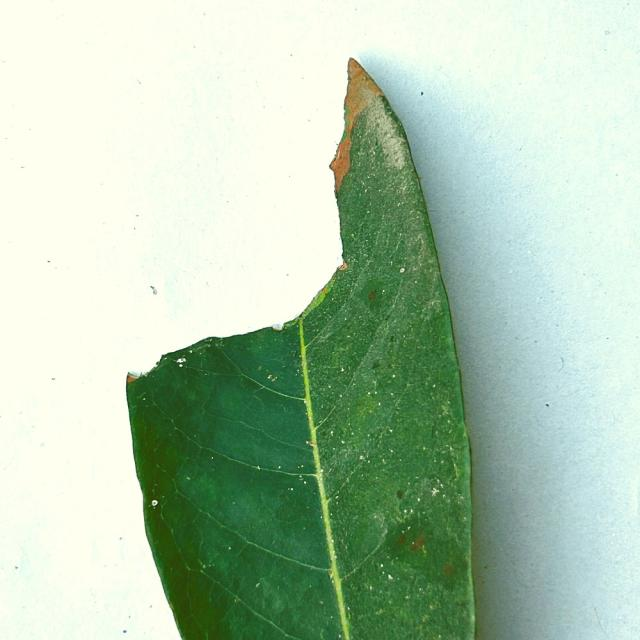Deficiency Leaf: (81, 63, 342, 376)
Lychee: (124, 63, 476, 639)
